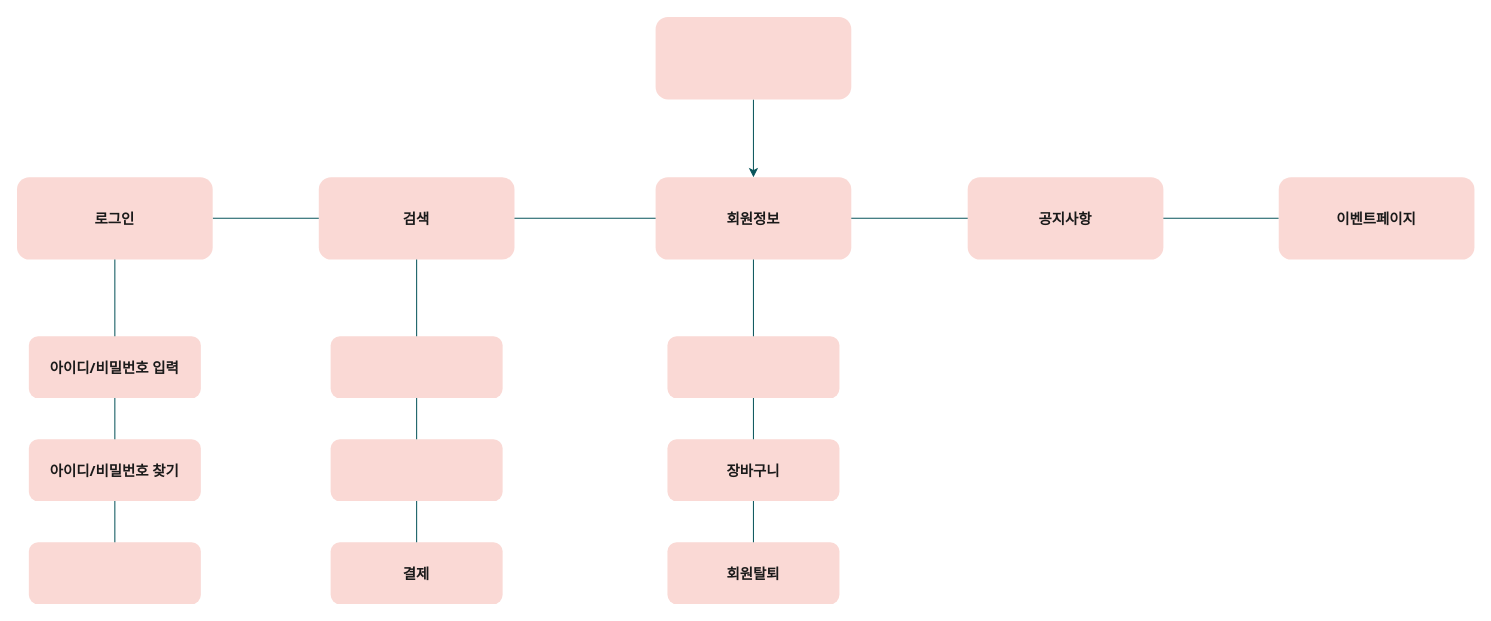
This 1491x621 diagram has some shape labels left out. Each missing label, with the box of its shape:
index.jsp: (655, 16, 851, 99)
상세: (330, 336, 502, 398)
예약: (330, 439, 502, 501)
회원가입: (28, 542, 200, 604)
회원정보 수정: (667, 336, 839, 398)
